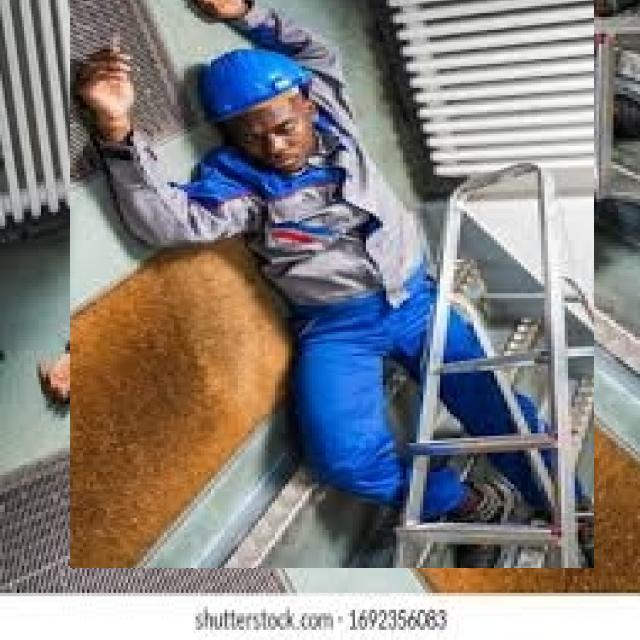Fall: (76, 0, 539, 563)
